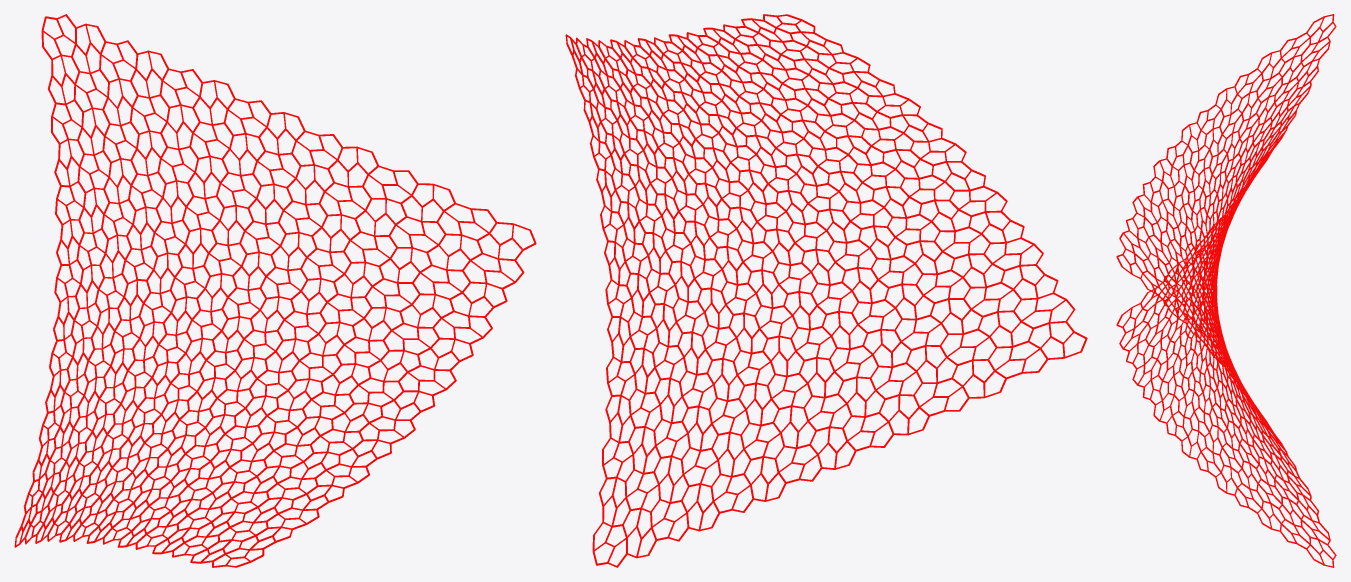
Rendered from vually.glb.
3 views of the same model, side by side, from view 1: azimuth 30°, elevation 25°; view 2: azimuth 150°, elevation 25°; view 3: azimuth 270°, elevation 25° (orthographic). The views are drawn at different scales.
Size of the model in its own units: 0.915 by 1 by 0.4178.
